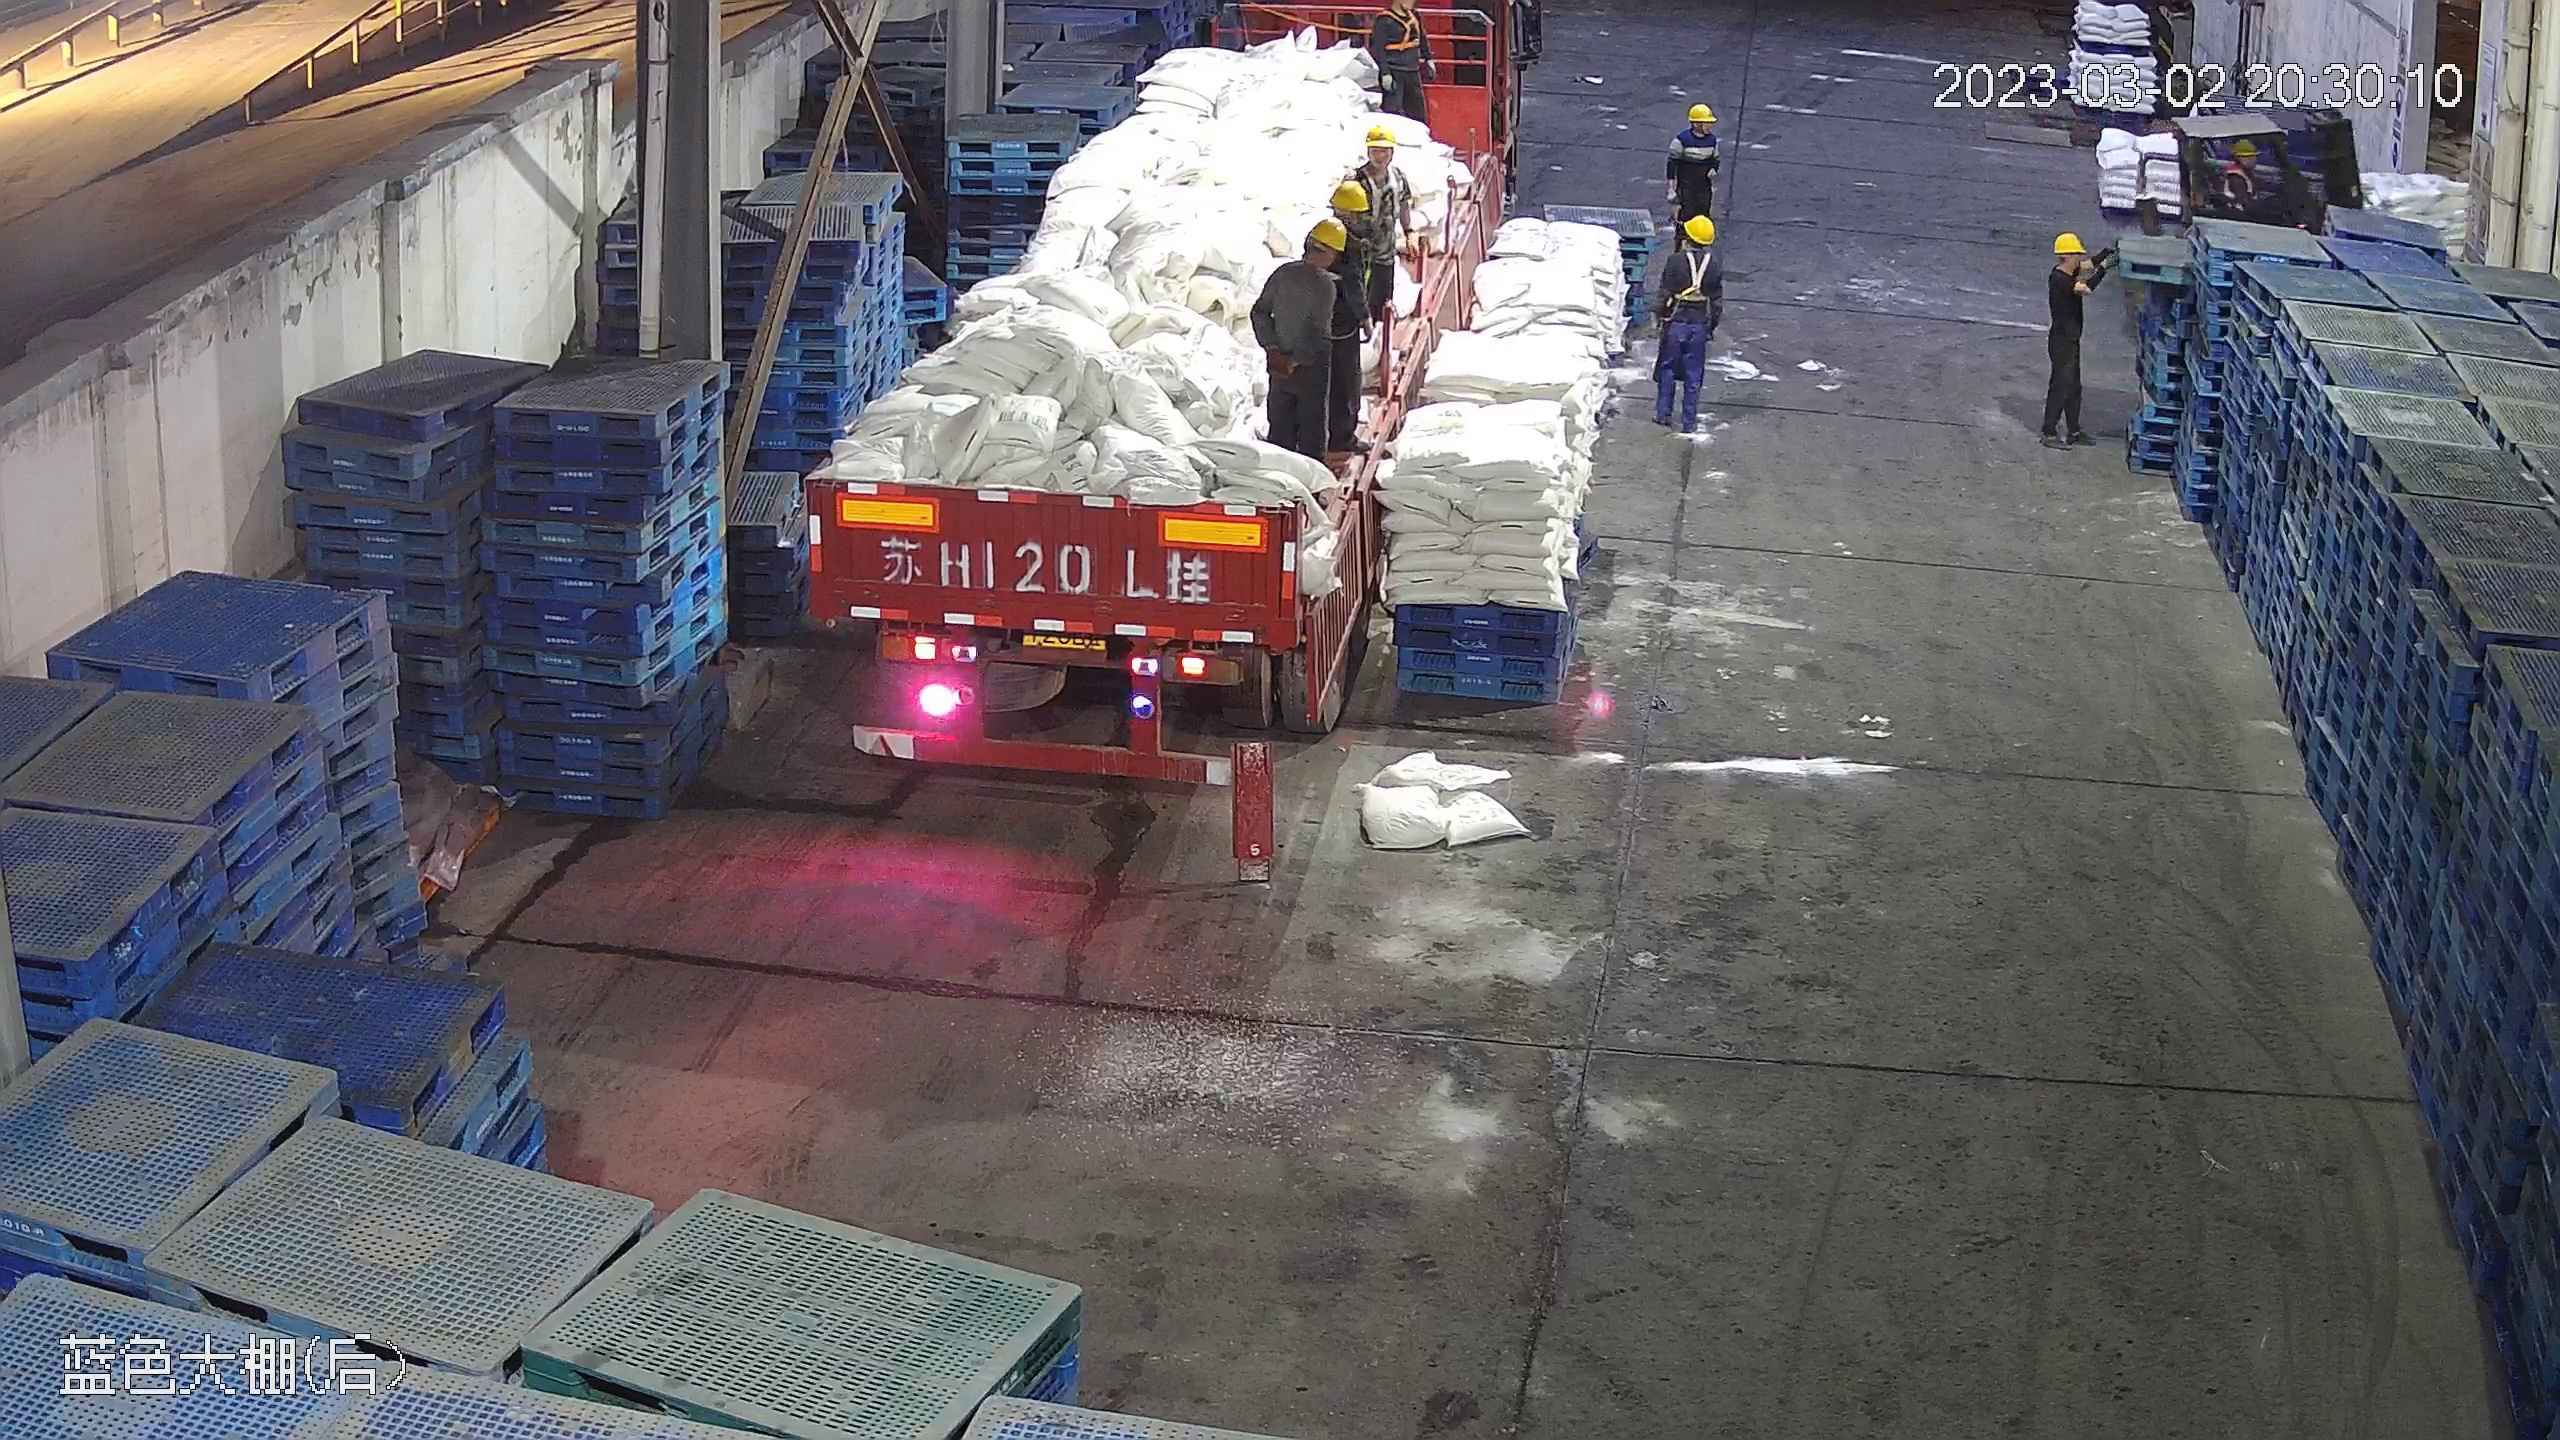belt: (1668, 251, 1715, 302), (1362, 167, 1403, 222), (1377, 8, 1423, 50), (1348, 233, 1372, 264)
head: (1265, 217, 1355, 301), (1662, 212, 1721, 286), (1347, 122, 1407, 193), (2048, 229, 2100, 296), (1670, 102, 1722, 156), (2222, 138, 2268, 193)
helmet: (2048, 229, 2098, 295), (1308, 216, 1356, 257), (1328, 176, 1372, 215), (1680, 213, 1716, 242), (1362, 122, 1398, 147), (2054, 230, 2088, 254), (2232, 136, 2260, 159), (1686, 102, 1715, 122)
people: (1251, 213, 1359, 456), (1648, 212, 1721, 439), (2034, 226, 2104, 447), (1363, 127, 1415, 316), (1371, 3, 1444, 121), (1665, 102, 1724, 236)
truck: (796, 7, 1487, 788)
